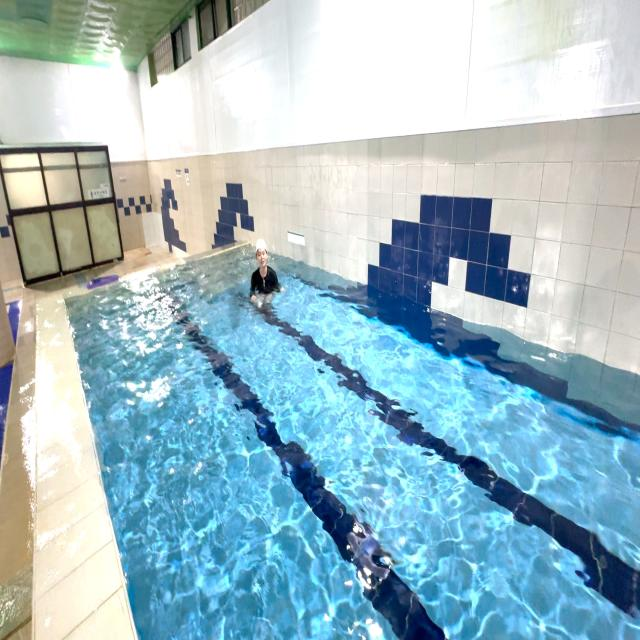Swimming: (241, 232, 286, 314)
